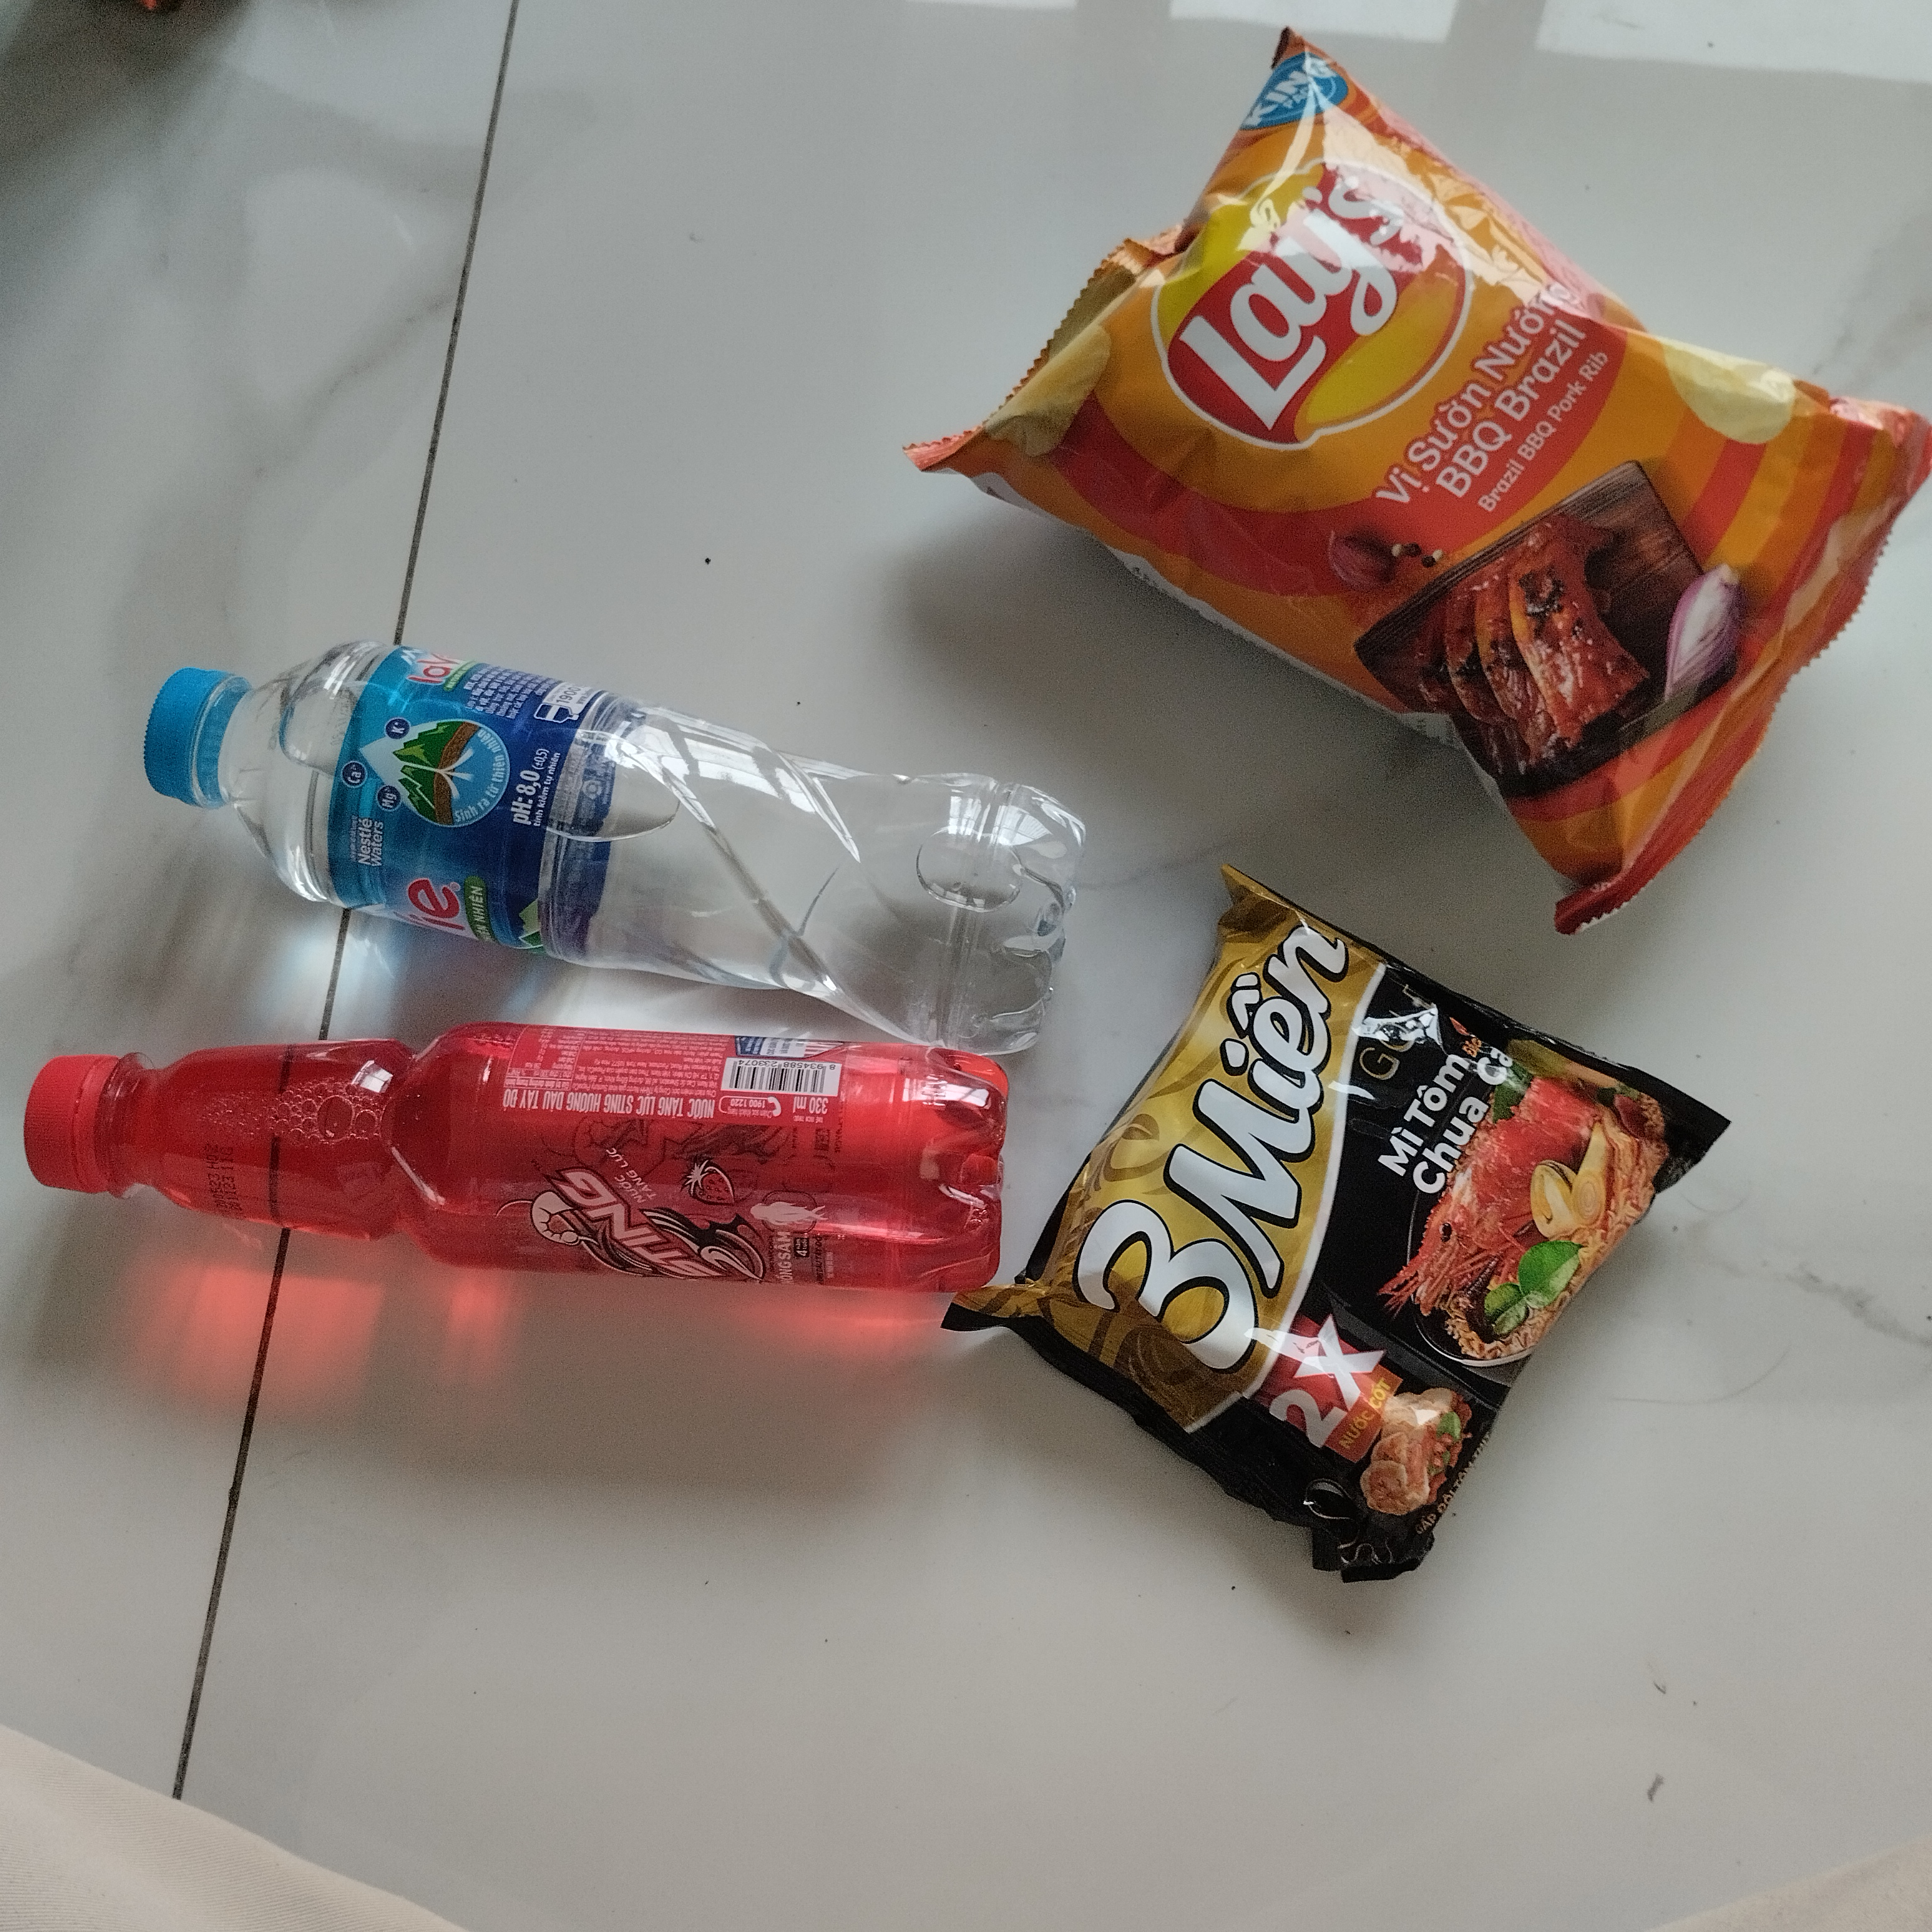3mien: (932, 863, 1746, 1598)
Lavie: (131, 619, 1104, 1062)
Lays: (888, 12, 1932, 936)
Sting: (12, 1026, 1010, 1316)
